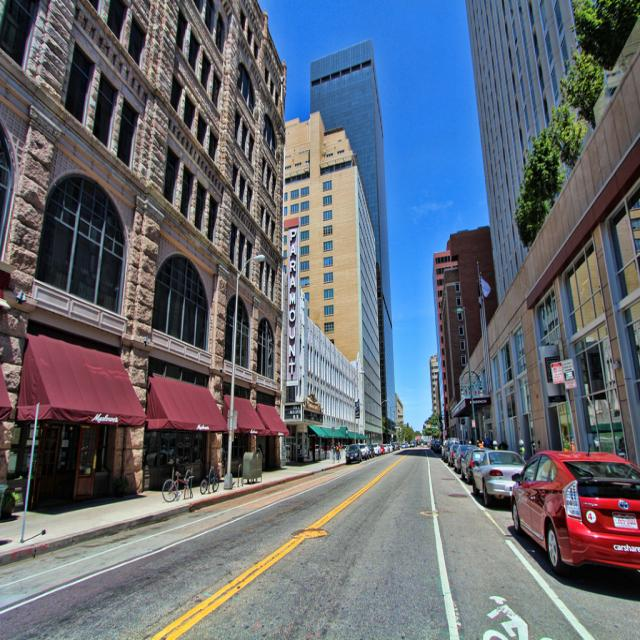car: (343, 440, 362, 460)
